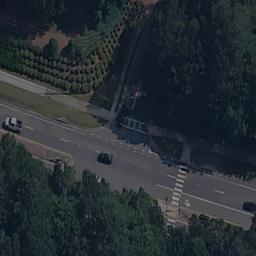Car: (92, 149, 112, 167), (1, 116, 23, 132), (240, 199, 256, 212)
Crosswalk: (170, 163, 185, 204), (120, 116, 148, 136)
Double Solid Yellow Line: (129, 76, 144, 111)
White Dashed Line: (22, 125, 98, 154), (164, 172, 227, 195)
